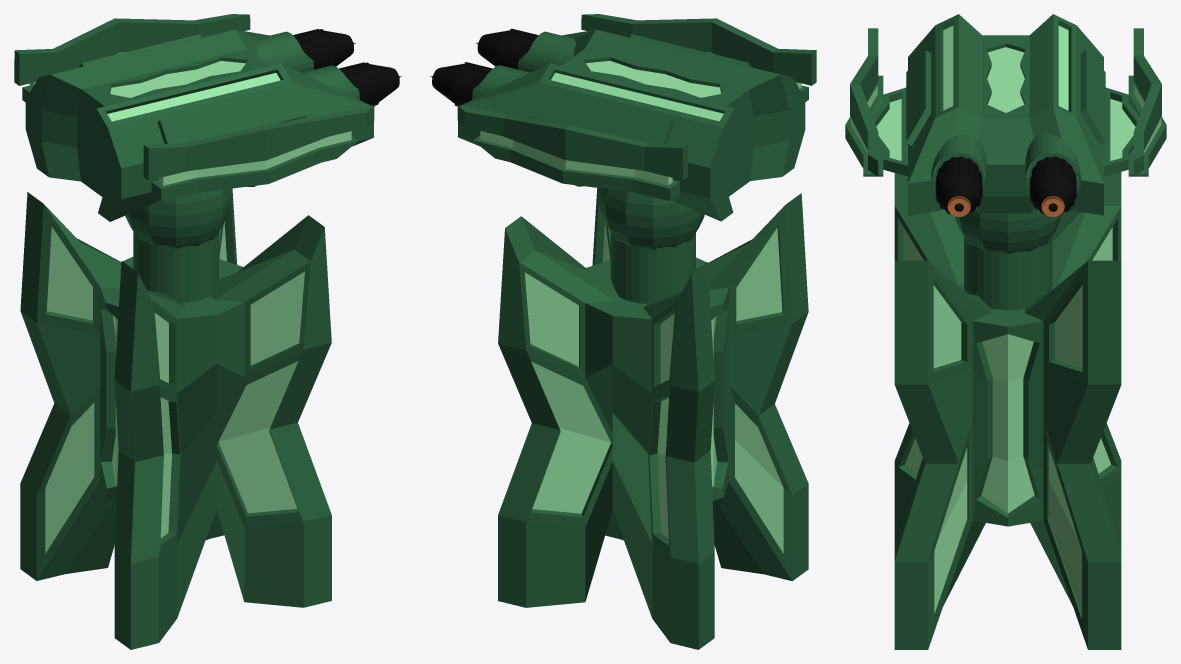
Rendered from MissileTower.fbx.
3 views of the same model, side by side, from view 1: azimuth 30°, elevation 25°; view 2: azimuth 150°, elevation 25°; view 3: azimuth 270°, elevation 25° (orthographic). The views are drawn at different scales.
Parts seen in each view (by area): view 1: Cube, Corpus, Missile.001, Missile; view 2: Cube, Corpus, Missile, Missile.001; view 3: Cube, Corpus, Missile.001, Missile.
Boxes of the visible parts, bbox=[...] form: Cube: bbox=[20, 188, 331, 649]; Corpus: bbox=[14, 14, 374, 221]; Missile.001: bbox=[339, 62, 401, 106]; Missile: bbox=[293, 29, 355, 69]; Cube: bbox=[498, 188, 808, 649]; Corpus: bbox=[457, 14, 816, 221]; Missile: bbox=[430, 62, 492, 106]; Missile.001: bbox=[475, 28, 538, 69]; Cube: bbox=[894, 172, 1121, 649]; Corpus: bbox=[845, 14, 1166, 215]; Missile.001: bbox=[935, 156, 982, 216]; Missile: bbox=[1029, 156, 1076, 216].
Bounding box in the file's own units: 720 × 1172 × 640.
